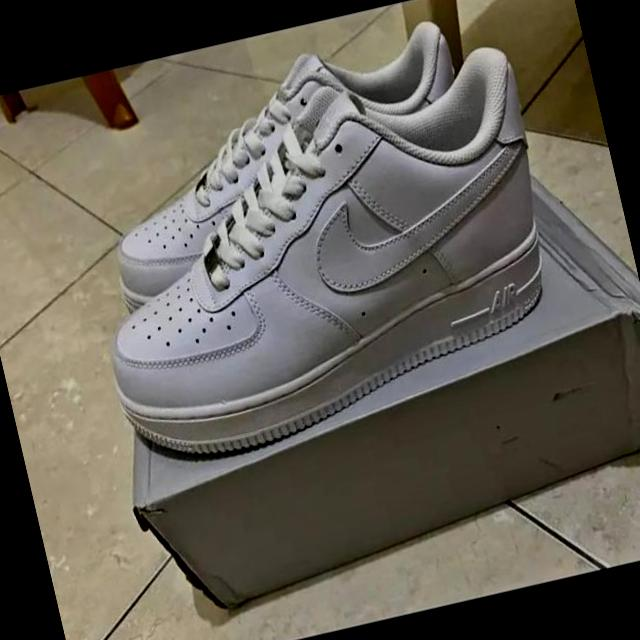nike_original_airforce: (52, 48, 584, 480), (73, 16, 498, 313)
